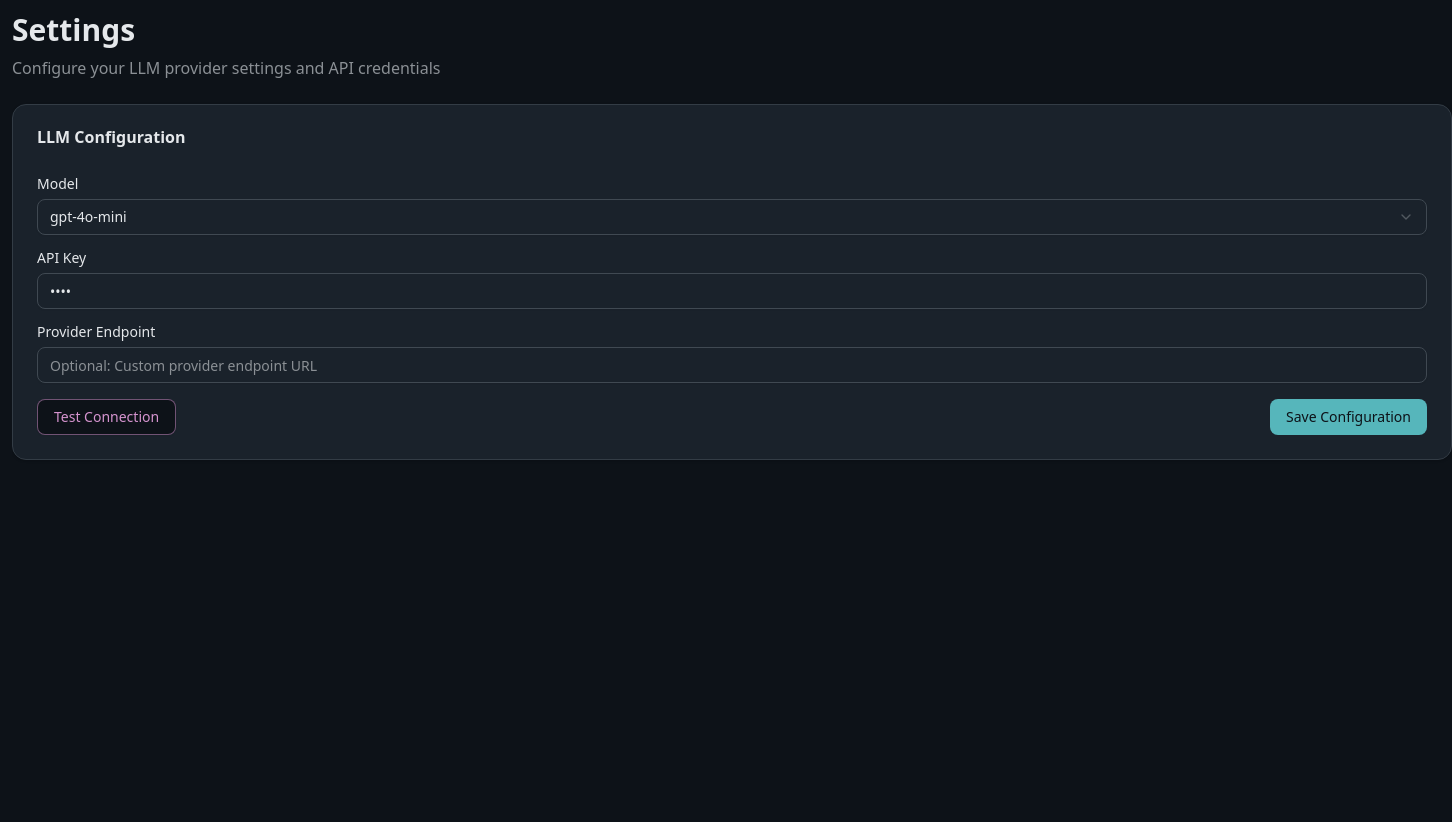
Test: Settings Test Connection Integration Test › should display error message when test connection fails
Type "sk-invalid-key" into the password field labelled "API Key".
click(732, 291); type("sk-invalid-key")  # box [37,273,1427,309]
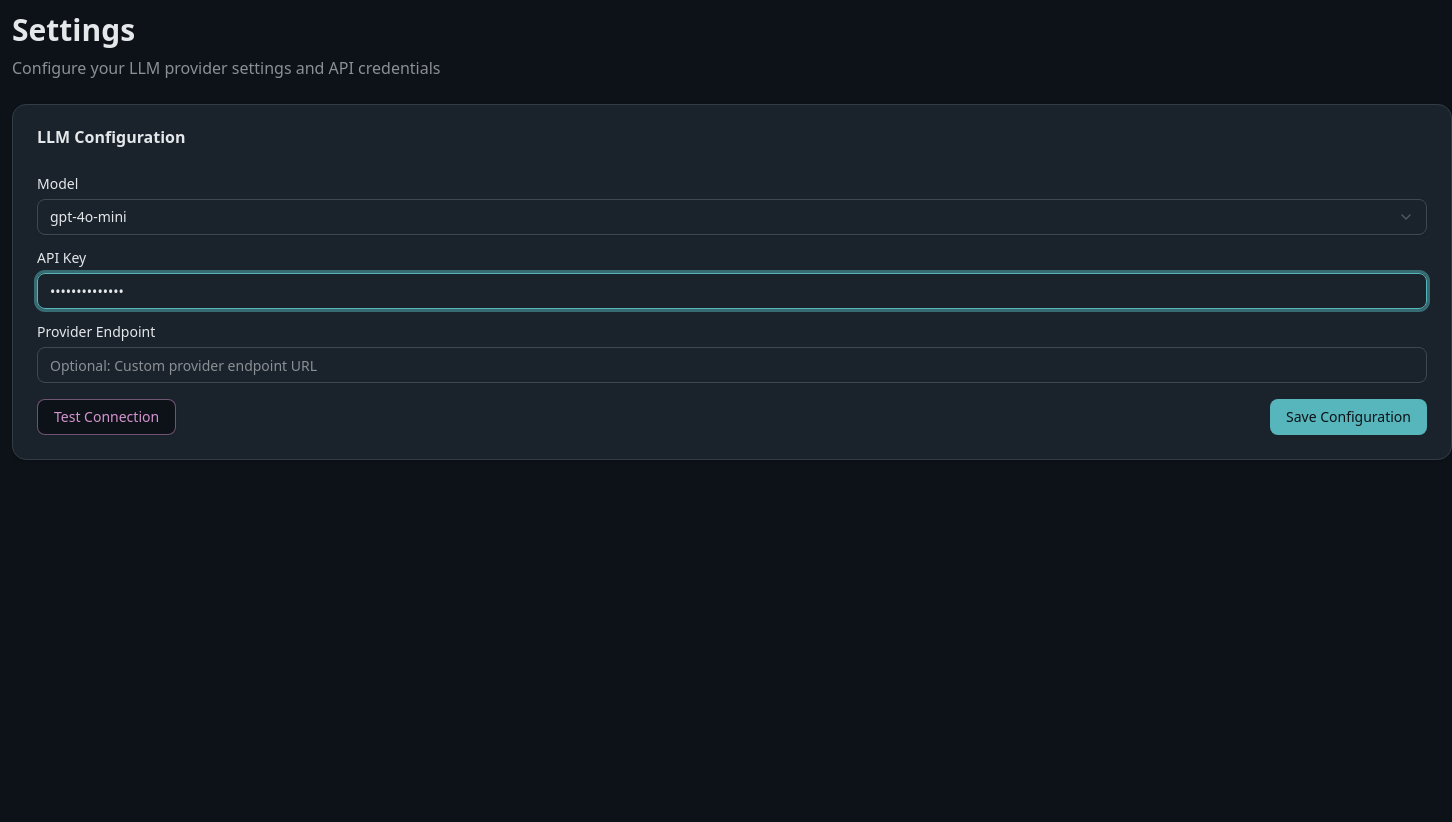
Click the button "Test Connection".
click(107, 417)  # box [37,399,176,435]
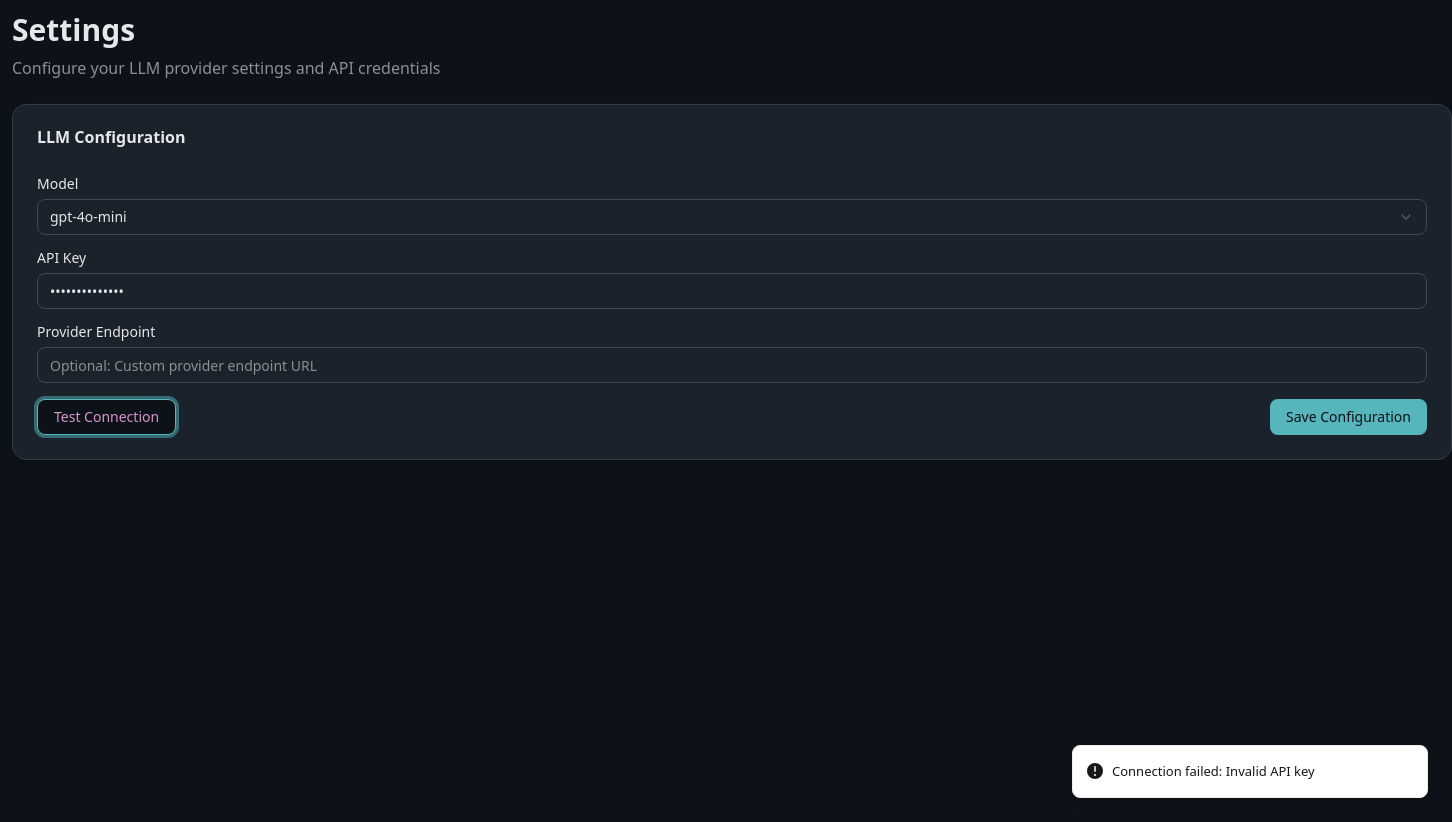
Expected: the text "Connection failed: Invalid API key" is shown, [1112,762,1315,781]
